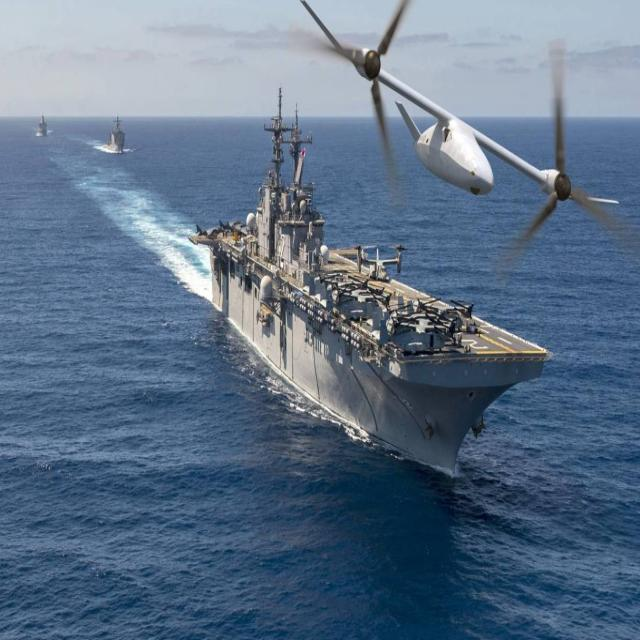navalvessels: (202, 90, 544, 498), (96, 102, 126, 162), (35, 107, 50, 147)
